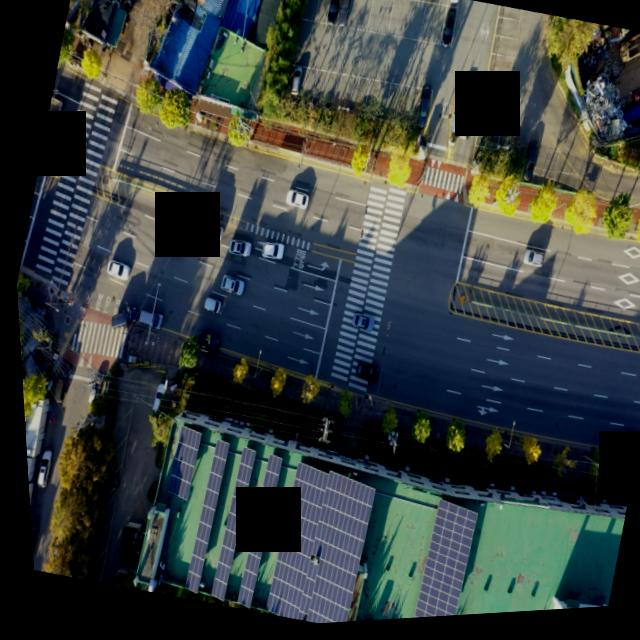car: (86, 473, 115, 511), (103, 302, 136, 334), (411, 90, 433, 135), (516, 146, 539, 189), (45, 365, 68, 406), (437, 13, 458, 55), (142, 383, 163, 423), (156, 234, 185, 260), (29, 448, 48, 487), (132, 308, 162, 332), (347, 363, 375, 388), (216, 275, 243, 300), (334, 0, 355, 32), (102, 258, 129, 282), (280, 189, 307, 213), (323, 0, 345, 29), (80, 374, 99, 407), (256, 242, 282, 265), (286, 68, 304, 100), (346, 315, 371, 338), (516, 252, 541, 275), (225, 239, 249, 260), (612, 434, 635, 455), (196, 297, 217, 318)
small_truck: (192, 219, 222, 246), (189, 330, 218, 355), (24, 518, 34, 568)
